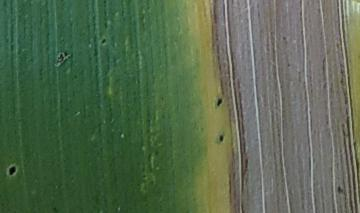tarspot: (54, 50, 73, 69), (4, 163, 20, 178), (214, 96, 225, 109), (216, 133, 227, 144), (99, 37, 110, 46), (336, 185, 346, 194)
